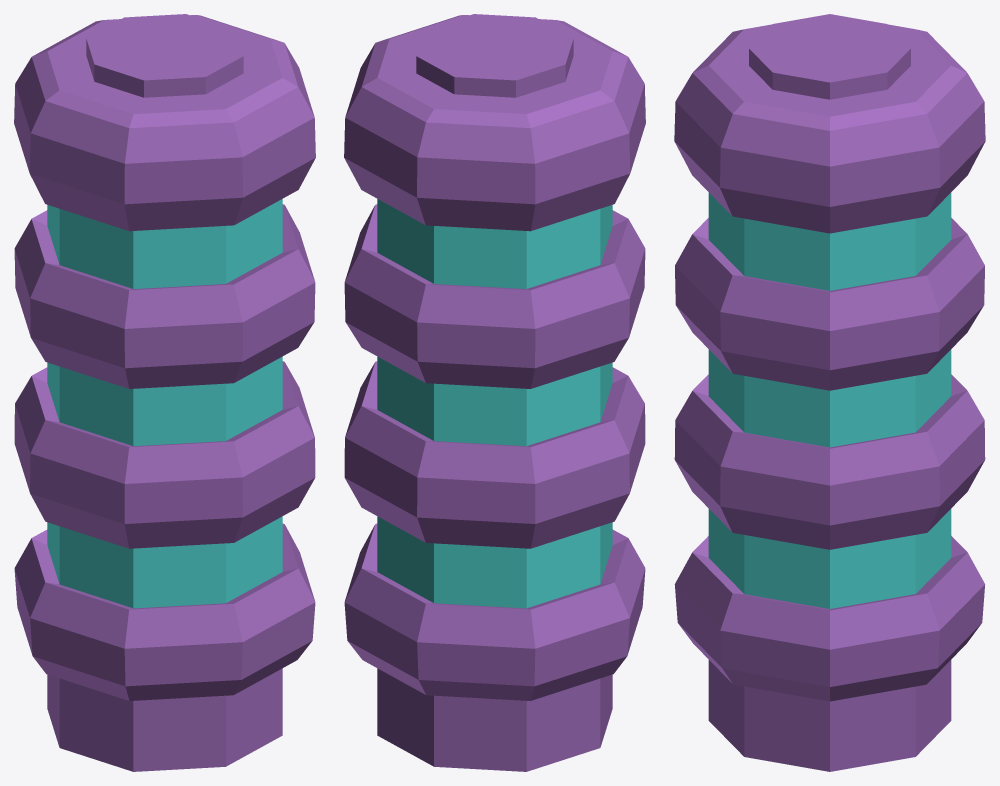
File: Building 2 - Colors Named.fbx
3 views of the same model, side by side, from view 1: azimuth 30°, elevation 25°; view 2: azimuth 150°, elevation 25°; view 3: azimuth 270°, elevation 25° (orthographic).
Parts seen in each view (by area): view 1: Building 2; view 2: Building 2; view 3: Building 2.
Part boxes in pixels (x1=…): Building 2: x1=14, y1=14, x2=315, y2=771; Building 2: x1=344, y1=14, x2=645, y2=771; Building 2: x1=674, y1=14, x2=985, y2=771.
Bounding box in the file's own units: 18.28 × 43.55 × 18.28.
